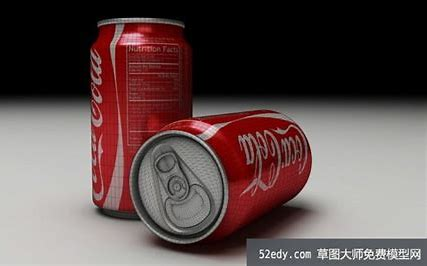Coke: (87, 18, 196, 223)
